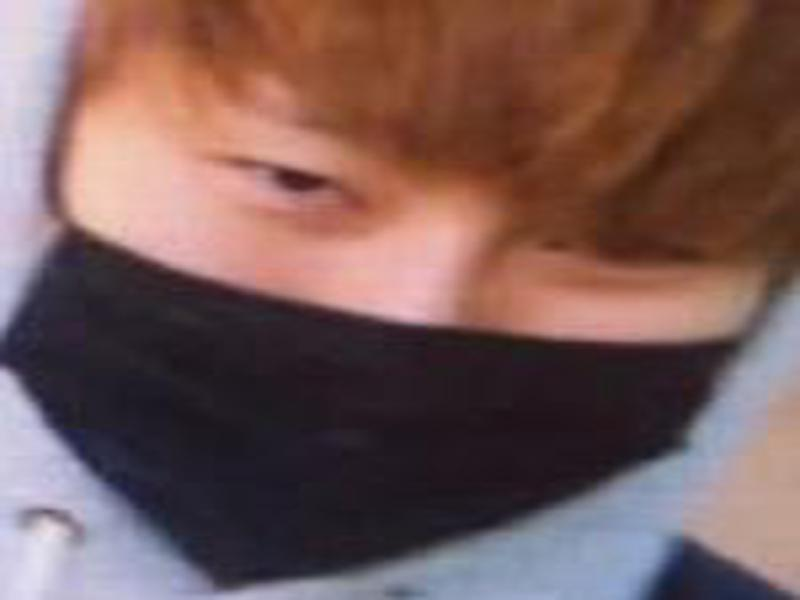with_mask: (3, 3, 800, 600)
